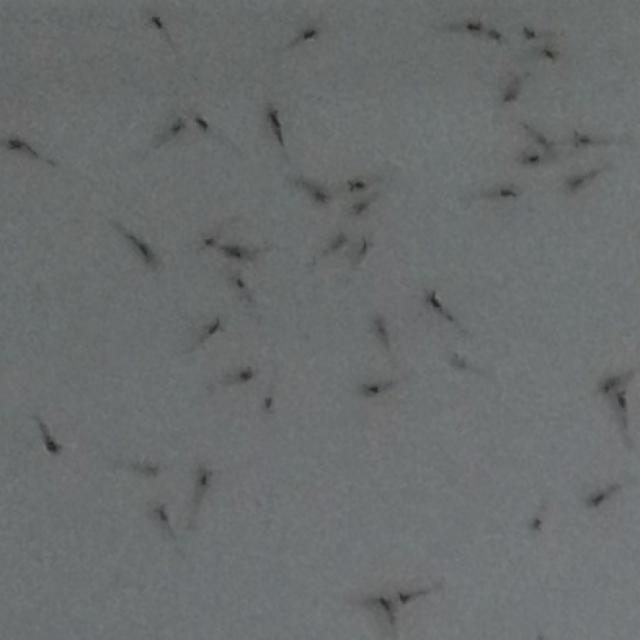shrimp-seed: (124, 232, 157, 264), (220, 240, 256, 264), (39, 423, 63, 455), (422, 287, 446, 313), (369, 312, 389, 337), (193, 467, 215, 489), (570, 129, 592, 149), (564, 173, 584, 195), (226, 270, 246, 292), (208, 314, 228, 334), (448, 352, 468, 372), (600, 375, 620, 395), (144, 460, 164, 480), (518, 150, 540, 168), (359, 233, 376, 256), (541, 45, 560, 65), (612, 388, 630, 409), (586, 489, 604, 510), (148, 12, 166, 32), (6, 136, 28, 152), (359, 382, 381, 398), (378, 594, 394, 616), (346, 177, 367, 193), (300, 26, 318, 44), (502, 85, 520, 103), (332, 230, 350, 248), (501, 183, 519, 200), (237, 364, 254, 382), (194, 114, 210, 132), (171, 116, 187, 134), (528, 515, 544, 533), (521, 25, 539, 40), (262, 392, 276, 411), (314, 187, 329, 204), (544, 137, 558, 155), (266, 108, 280, 126), (156, 503, 170, 521), (467, 20, 483, 34), (352, 200, 368, 214), (204, 236, 218, 252), (399, 590, 413, 604), (490, 28, 502, 42)
